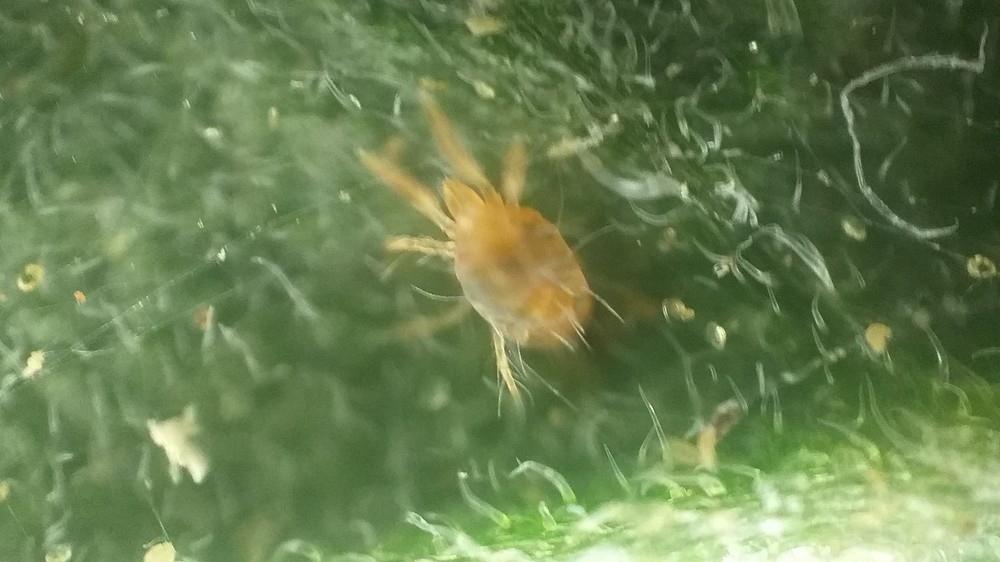Aracnido Rojo: (344, 97, 663, 435)
